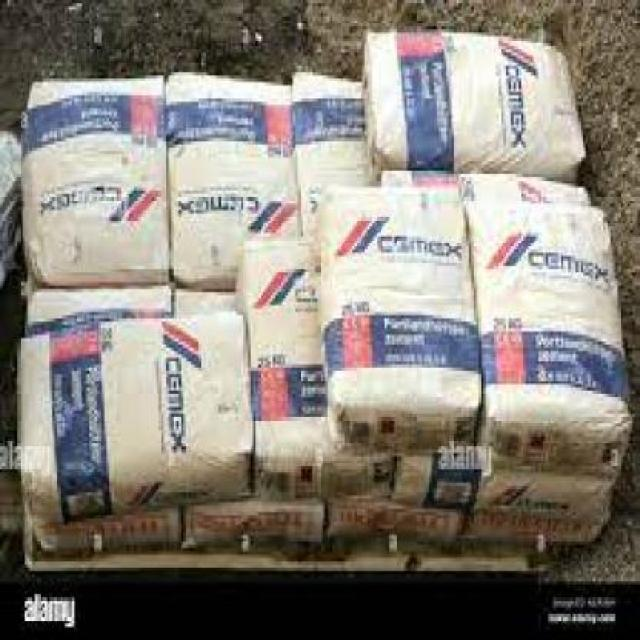gunny_bag: (18, 308, 250, 481), (324, 197, 487, 414), (465, 200, 631, 411), (165, 70, 298, 288), (34, 78, 176, 277), (370, 34, 584, 161), (246, 242, 328, 456), (397, 452, 608, 525), (295, 77, 378, 214), (27, 499, 181, 561), (27, 278, 174, 331), (324, 497, 467, 542), (185, 500, 321, 545), (461, 503, 606, 545), (462, 172, 588, 209), (383, 163, 461, 200), (172, 281, 240, 317)
